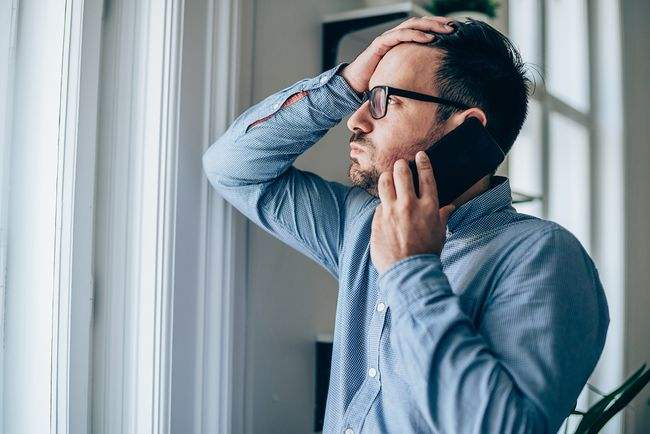calling: (364, 117, 507, 266)
